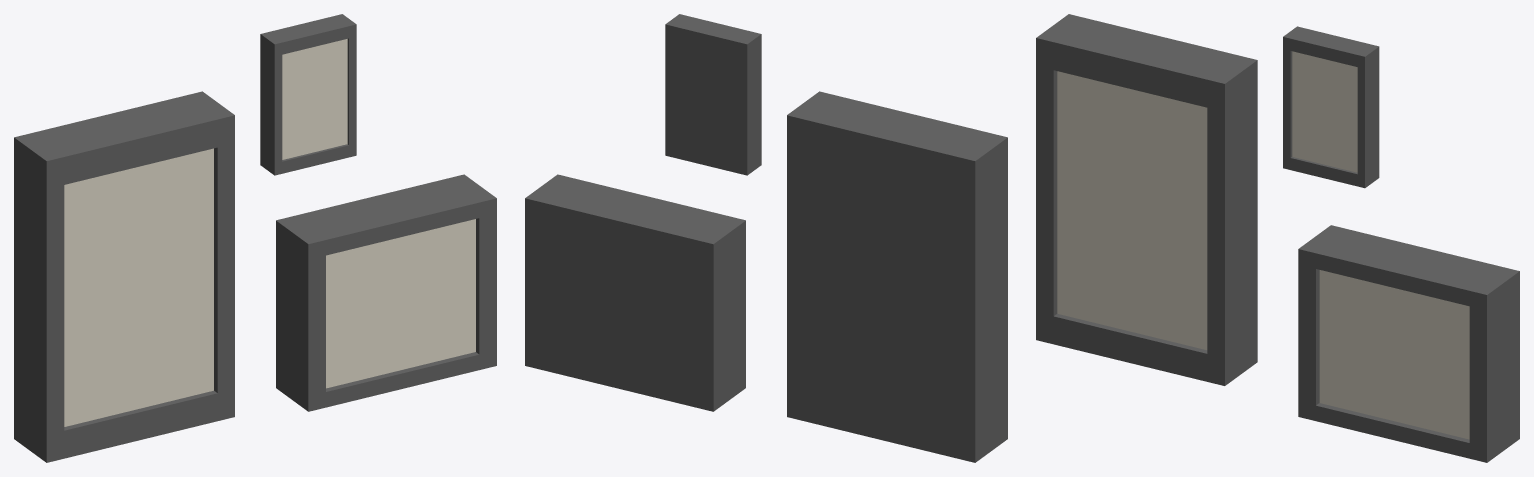
The model's file is Pictures.fbx.
3 renders of one model, left to right at view 1: azimuth 30°, elevation 25°; view 2: azimuth 150°, elevation 25°; view 3: azimuth 330°, elevation 25°, orthographic.
Visible parts, largest first — view 1: Cube.001; view 2: Cube.001; view 3: Cube.001.
Part boxes in pixels (x1=…): Cube.001: x1=14, y1=14, x2=496, y2=462; Cube.001: x1=525, y1=14, x2=1007, y2=462; Cube.001: x1=1036, y1=14, x2=1519, y2=462.
Size of the model in its own units: 0.506 by 0.3938 by 0.0635.
